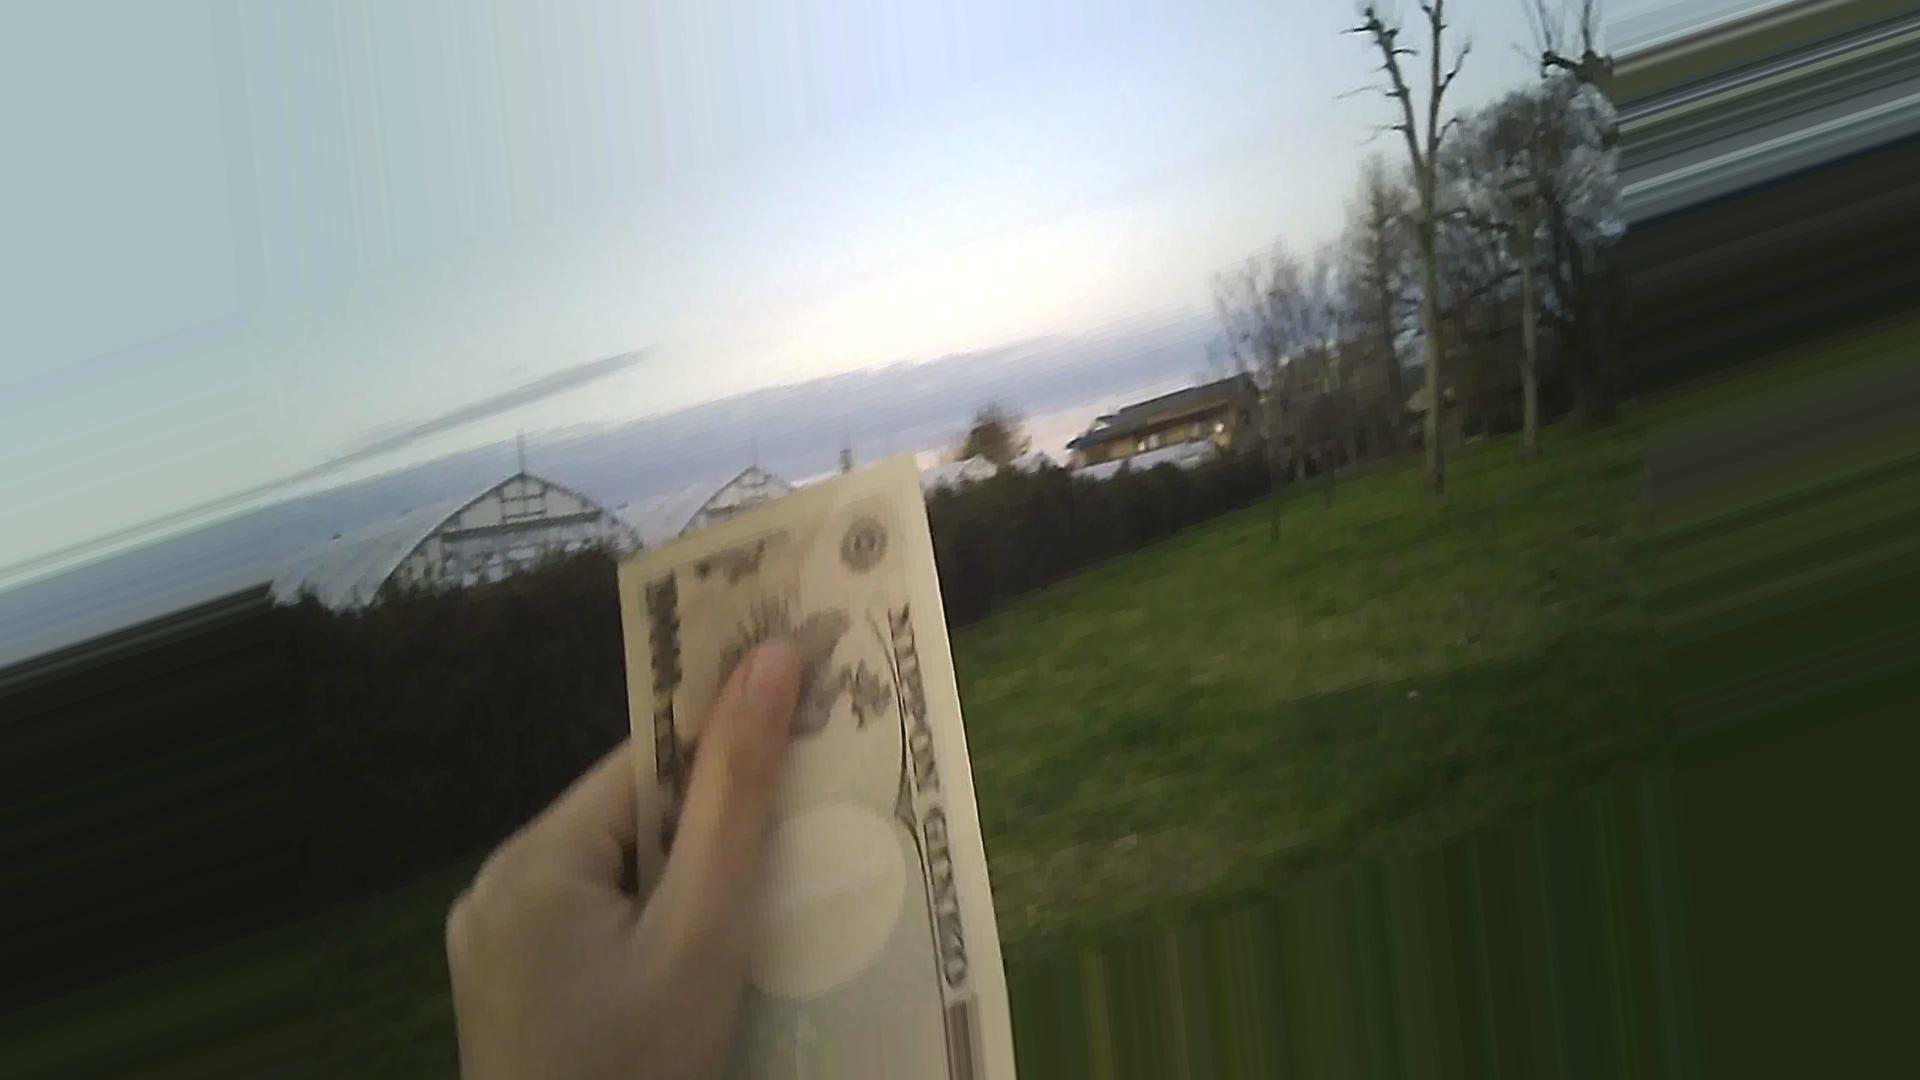10,000 Yen: (593, 506, 1026, 1019)
